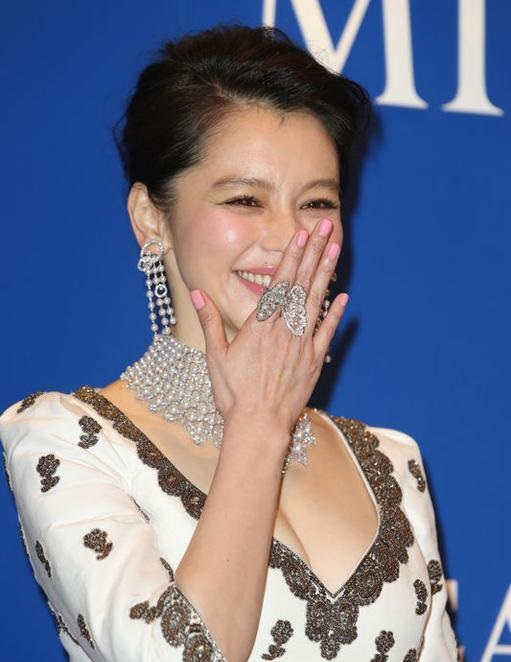face: (181, 109, 341, 345)
